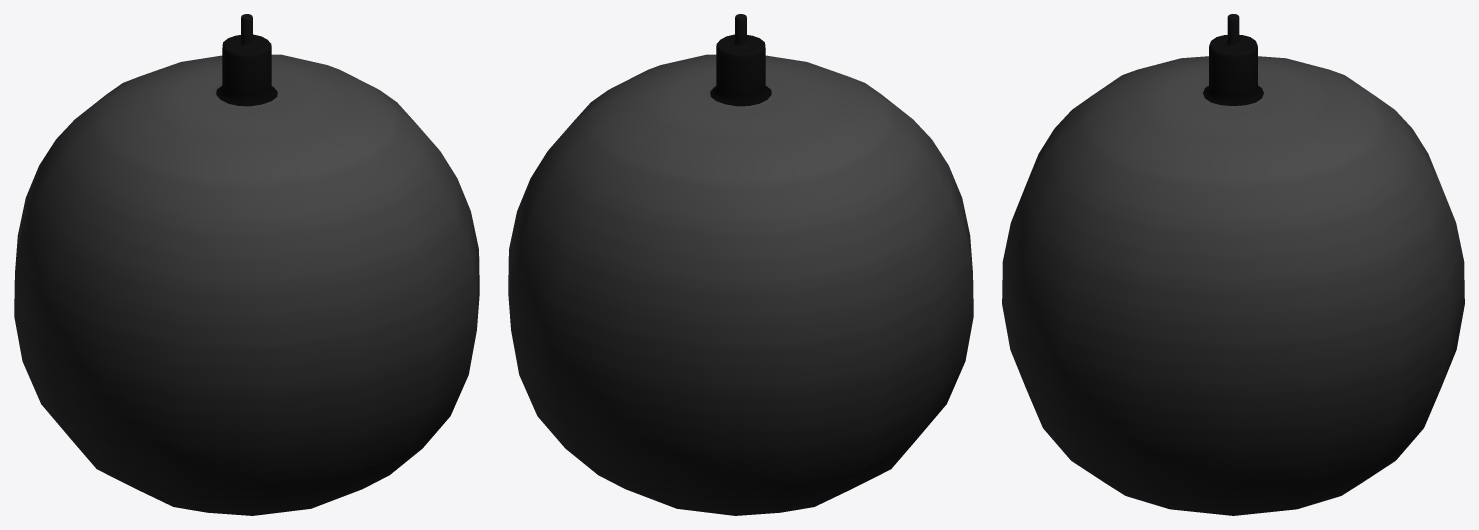
File: bomb.fbx
3 views of the same model, side by side, from view 1: azimuth 30°, elevation 25°; view 2: azimuth 150°, elevation 25°; view 3: azimuth 270°, elevation 25° (orthographic).
Parts seen in each view (by area): view 1: bomb; view 2: bomb; view 3: bomb.
Part boxes in pixels (x1=…): bomb: x1=14, y1=14, x2=479, y2=515; bomb: x1=508, y1=14, x2=973, y2=515; bomb: x1=1002, y1=14, x2=1464, y2=515.
Size of the model in its own units: 160 by 179 by 160.
